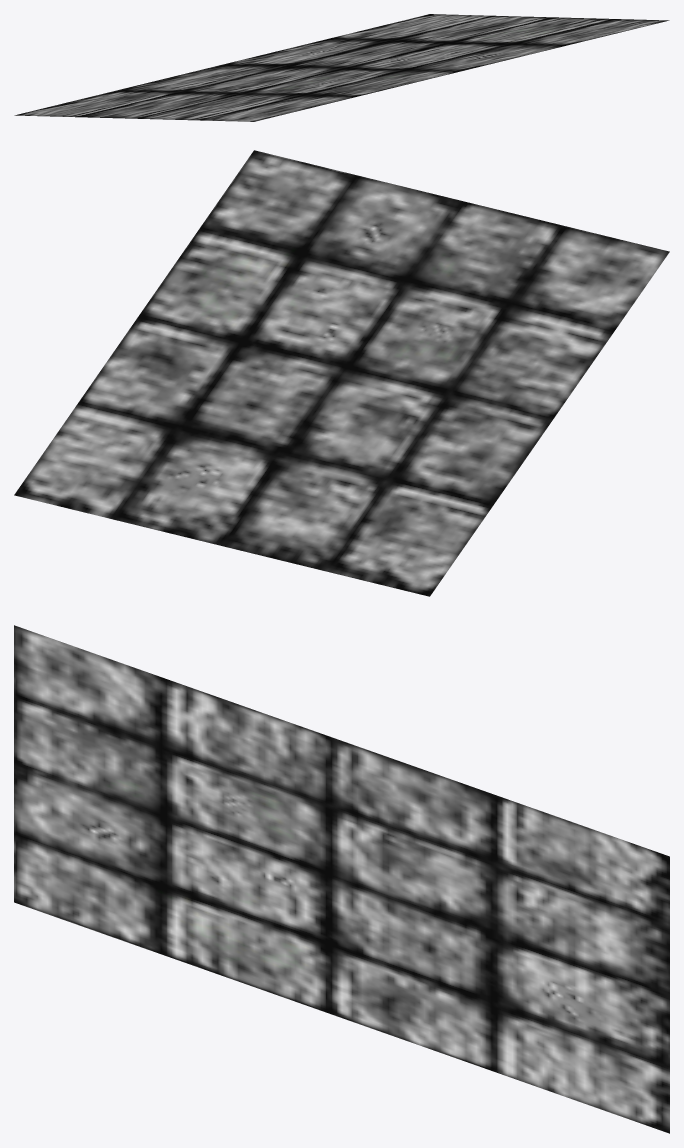
The model's file is Boden4x4_Schräg_Außen [SteinFliesen]_651.glb.
3 renders of one model, top to bottom at view 1: azimuth 30°, elevation 25°; view 2: azimuth 150°, elevation 25°; view 3: azimuth 270°, elevation 25°, orthographic. The views are drawn at different scales.
Parts seen in each view (by area): view 1: pPlaneShape173; view 2: pPlaneShape173; view 3: pPlaneShape173.
Part boxes in pixels (<box>): pPlaneShape173: <box>14,14,669,121</box>; pPlaneShape173: <box>14,150,669,596</box>; pPlaneShape173: <box>14,625,669,1133</box>.
Bounding box in the file's own units: 1 × 0.3891 × 1.
Materials: 1 (1 with a texture image).
